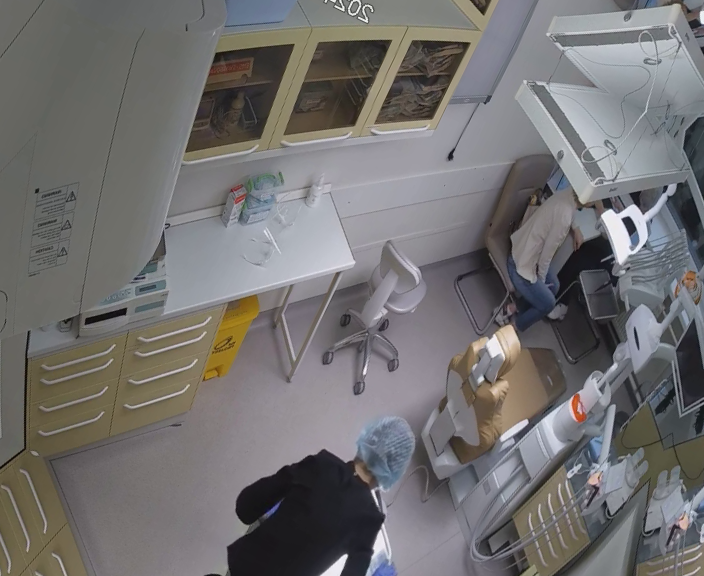Empty: (404, 303, 588, 514)
